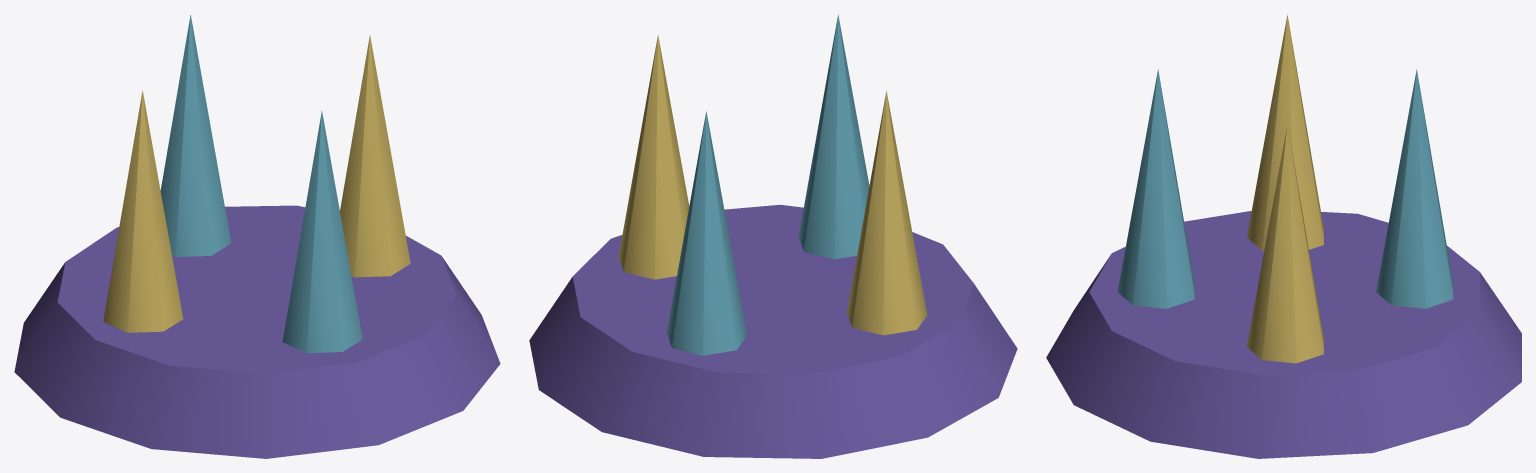
The model's file is hazard_pylon.glb.
3 views of the same model, side by side, from view 1: azimuth 30°, elevation 25°; view 2: azimuth 150°, elevation 25°; view 3: azimuth 270°, elevation 25° (orthographic).
Visible parts, largest first — view 1: hazard_base, hazard_spike_2, hazard_spike_1, hazard_spike_0, hazard_spike_3; view 2: hazard_base, hazard_spike_3, hazard_spike_2, hazard_spike_0, hazard_spike_1; view 3: hazard_base, hazard_spike_3, hazard_spike_1, hazard_spike_0, hazard_spike_2.
Boxes of the visible parts, x1,y1,x2,y2 form: hazard_base: (14,205,500,458); hazard_spike_2: (103,91,183,332); hazard_spike_1: (282,111,362,352); hazard_spike_0: (340,35,410,277); hazard_spike_3: (160,15,231,256); hazard_base: (529,204,1017,458); hazard_spike_3: (667,111,747,355); hazard_spike_2: (847,90,927,335); hazard_spike_0: (618,35,689,279); hazard_spike_1: (798,14,869,259); hazard_base: (1046,211,1521,458); hazard_spike_3: (1376,69,1453,308); hazard_spike_1: (1117,69,1194,308); hazard_spike_0: (1247,123,1323,363); hazard_spike_2: (1247,14,1323,250).
Size of what is drawn, in the model's own units: 2.78 by 1.85 by 2.76.
